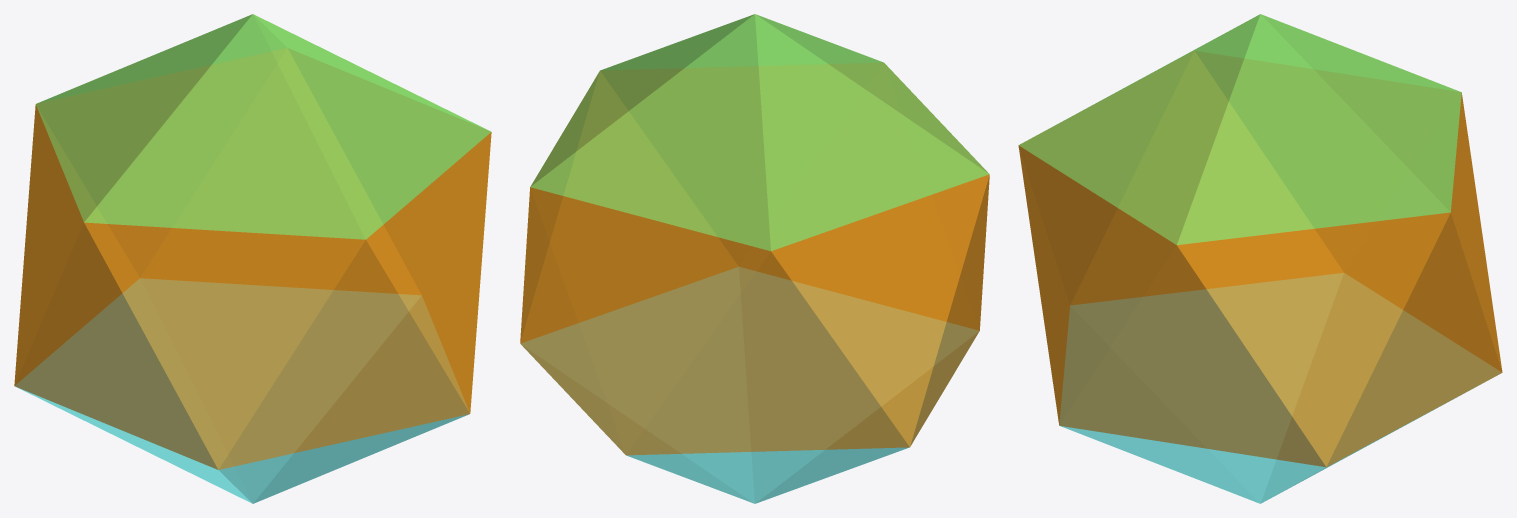
The picture shows the model from 3 angles, left to right: view 1: azimuth 30°, elevation 25°; view 2: azimuth 150°, elevation 25°; view 3: azimuth 270°, elevation 25°; orthographic projection.
Parts seen in each view (by area): view 1: root; view 2: root; view 3: root.
Part boxes in pixels (box(x1,y1,x2,y2)): root: box(14, 14, 491, 503); root: box(520, 14, 989, 503); root: box(1018, 14, 1502, 503).
Bounding box in the file's own units: 5.91 × 6.85 × 6.13.
